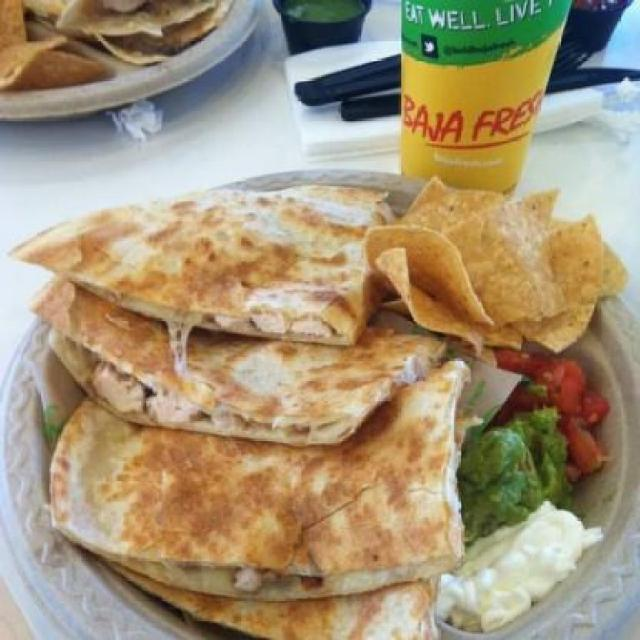chicken quesadilla: (2, 172, 466, 639)
guacamole: (459, 402, 568, 524)
nachos: (376, 166, 627, 357)
